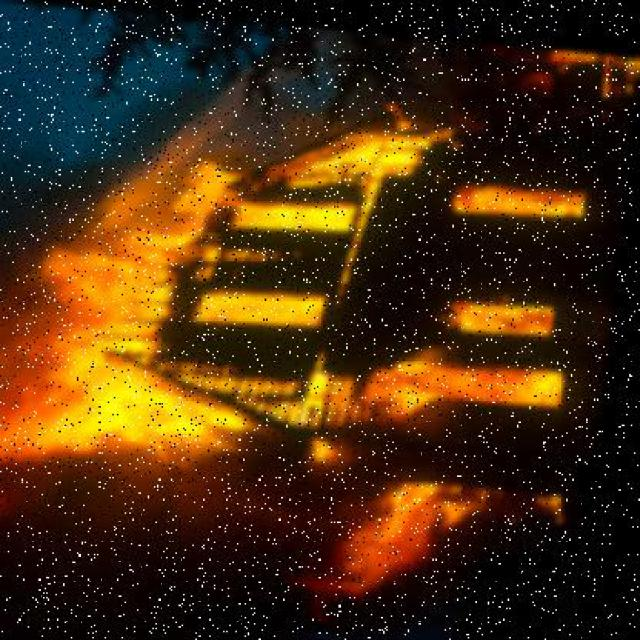fire: (1, 88, 438, 540)
